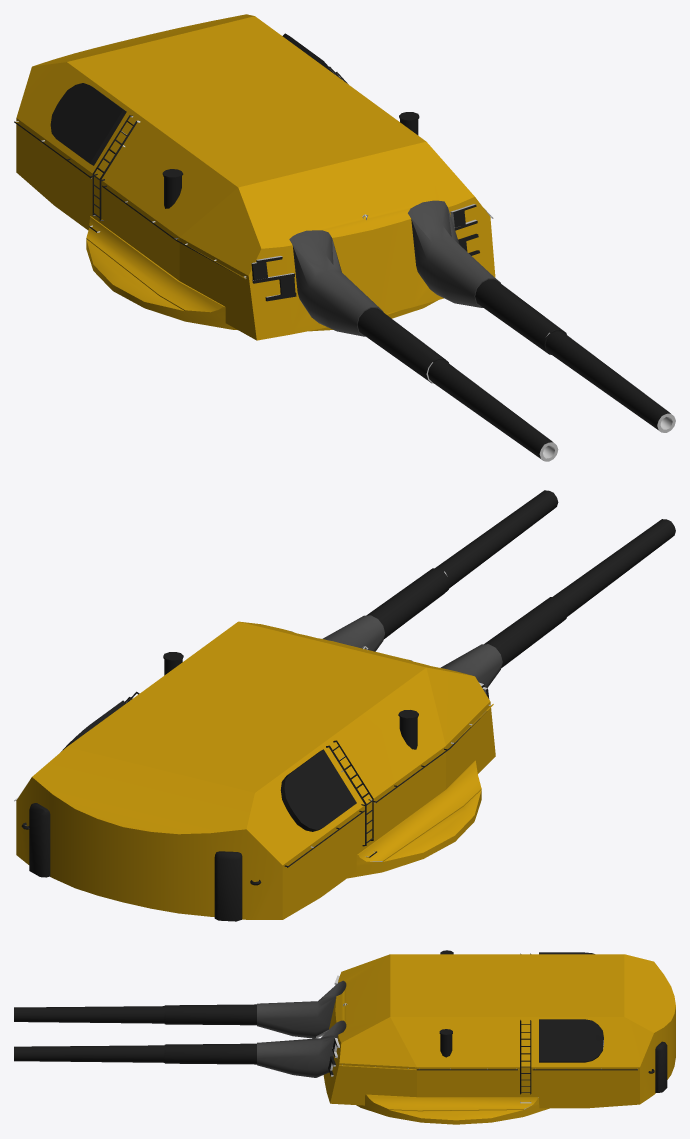
The model's file is gun.obj.
3 renders of one model, top to bottom at view 1: azimuth 30°, elevation 25°; view 2: azimuth 150°, elevation 25°; view 3: azimuth 270°, elevation 25°, orthographic. The views are drawn at different scales.
Visible parts, largest first — view 1: 066-0-8259; view 2: 066-0-8259; view 3: 066-0-8259.
Boxes of the visible parts, x1,y1,x2,y2 form: 066-0-8259: (14,14,675,461); 066-0-8259: (14,490,675,921); 066-0-8259: (14,950,675,1124).
Bounding box in the file's own units: 7.28 × 2.44 × 17.84.
